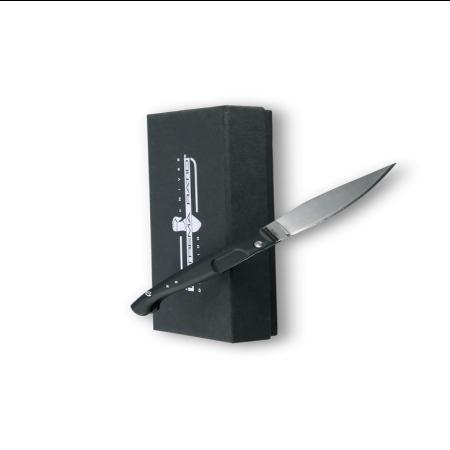long weapon: (237, 156, 403, 254)
